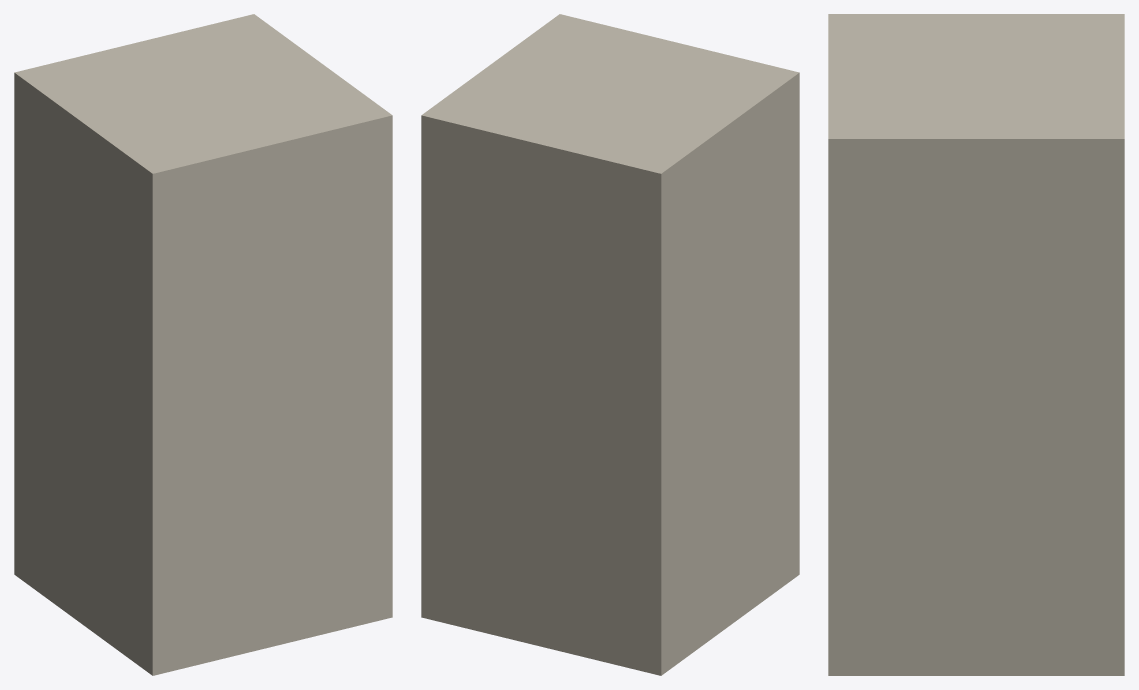
File: pillar.glb
3 views of the same model, side by side, from view 1: azimuth 30°, elevation 25°; view 2: azimuth 150°, elevation 25°; view 3: azimuth 270°, elevation 25° (orthographic). The views are drawn at different scales.
Visible parts, largest first — view 1: pillar; view 2: pillar; view 3: pillar.
Part boxes in pixels (bbox=[...]): pillar: bbox=[14, 14, 392, 675]; pillar: bbox=[421, 14, 799, 675]; pillar: bbox=[828, 14, 1124, 675].
Size of the model in its own units: 0.5 by 1 by 0.5.
1 material, 1 textured.
